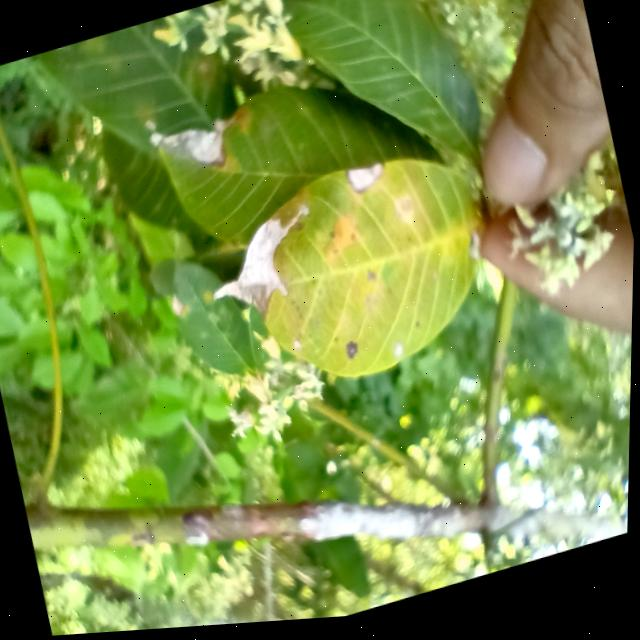Leaf-Blight: (199, 217, 304, 332), (148, 117, 233, 183), (344, 164, 388, 200), (170, 298, 185, 320)
